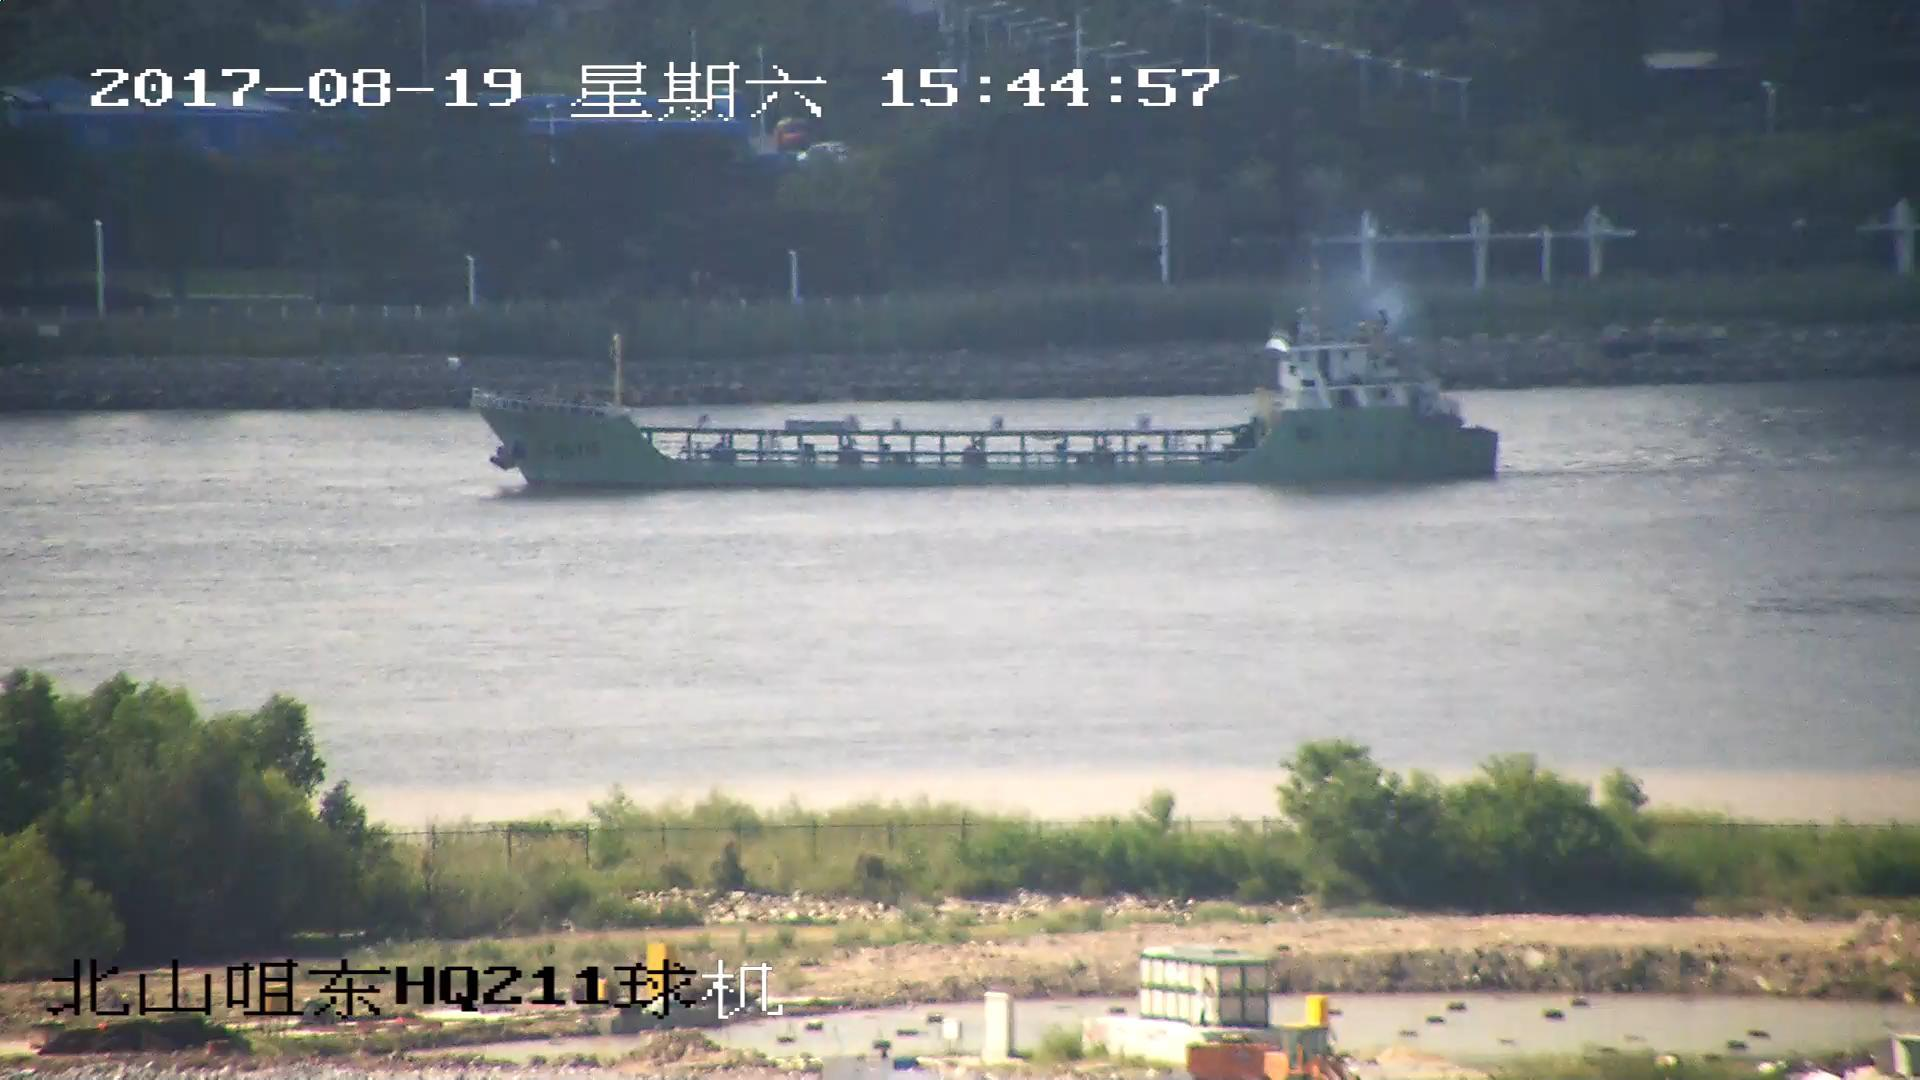Ship: (471, 268, 1506, 479)
